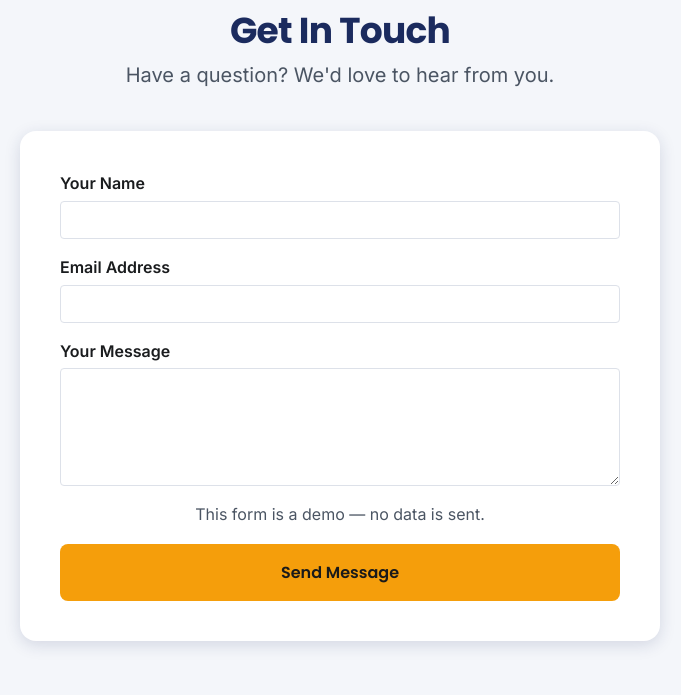
Test case: ContactSection › shows error when name field is empty on submit
The image size is (681, 695).
Step 1. Type "alice@example.com" into the field labelled "Email Address" → (340, 304), box [60,285,620,323]
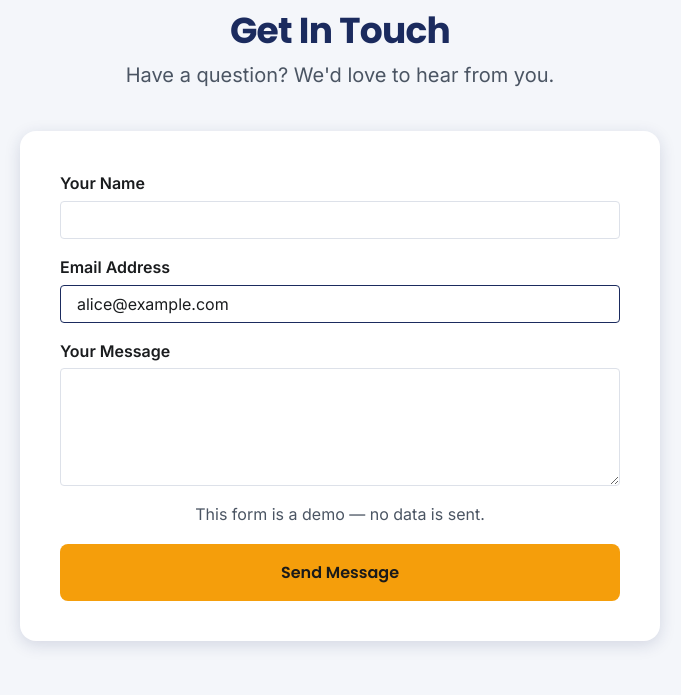
Step 2. Type "Hello, I have a question." into the text box labelled "Your Message" → (340, 427), box [60,368,620,486]
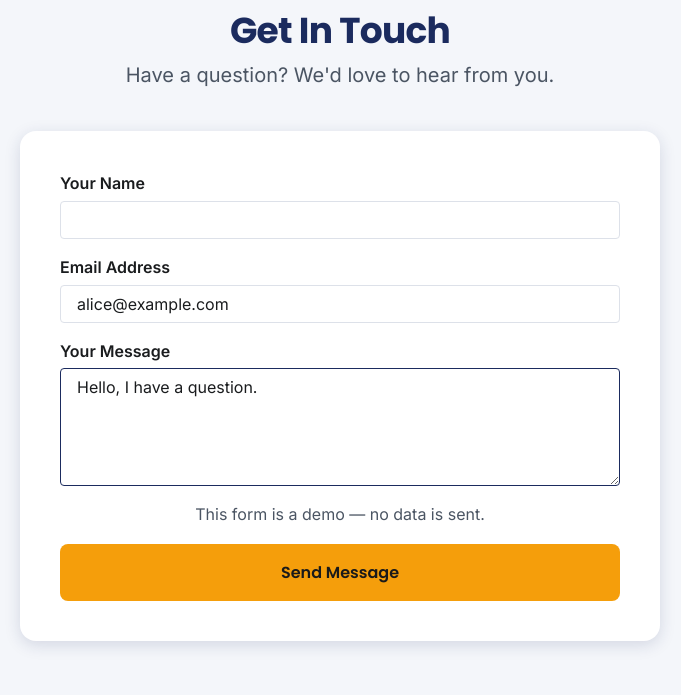
Step 3. Click the button "Send Message" → (340, 572), box [60,544,620,601]
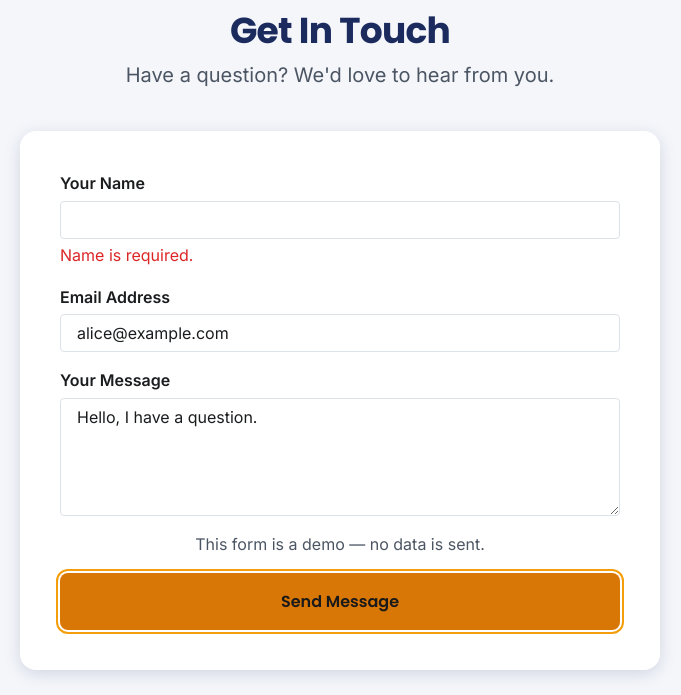
Check: the text "Name is required." is shown, box [60,245,193,265]
